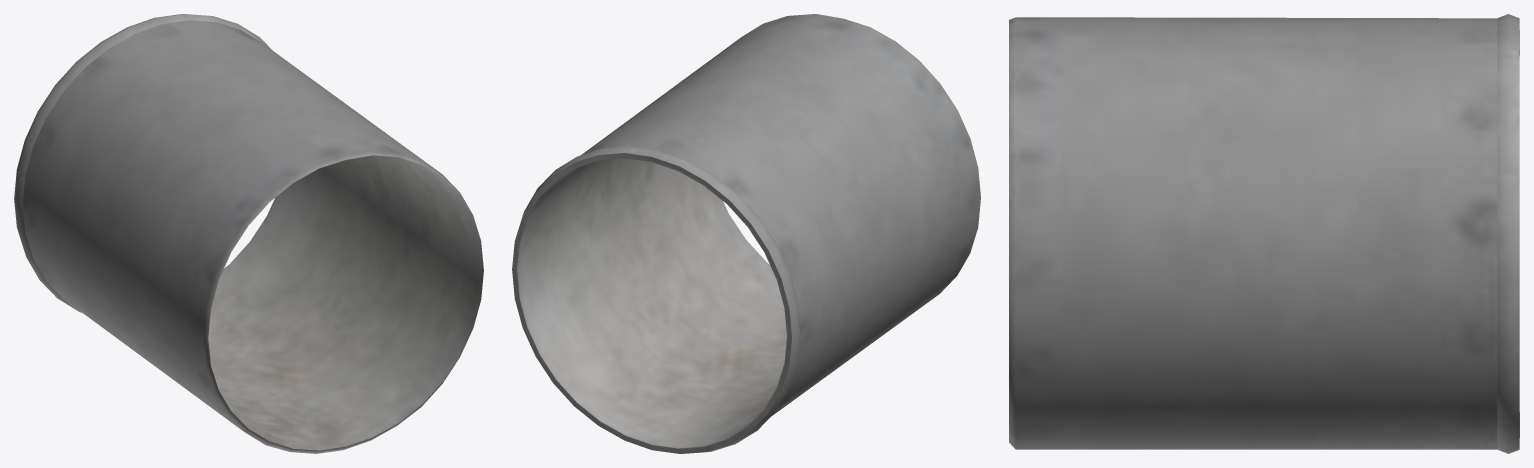
File: circular_smooth_double.gltf
3 views of the same model, side by side, from view 1: azimuth 30°, elevation 25°; view 2: azimuth 150°, elevation 25°; view 3: azimuth 270°, elevation 25° (orthographic). The views are drawn at different scales.
Parts seen in each view (by area): view 1: circular_smooth_double; view 2: circular_smooth_double; view 3: circular_smooth_double.
Part boxes in pixels (x1,y1,x2,y2): circular_smooth_double: (14,14,483,453); circular_smooth_double: (512,14,980,453); circular_smooth_double: (1009,14,1519,453).
Size of the model in its own units: 0.371 by 0.3713 by 0.4307.
Materials: 1 (1 with a texture image).
